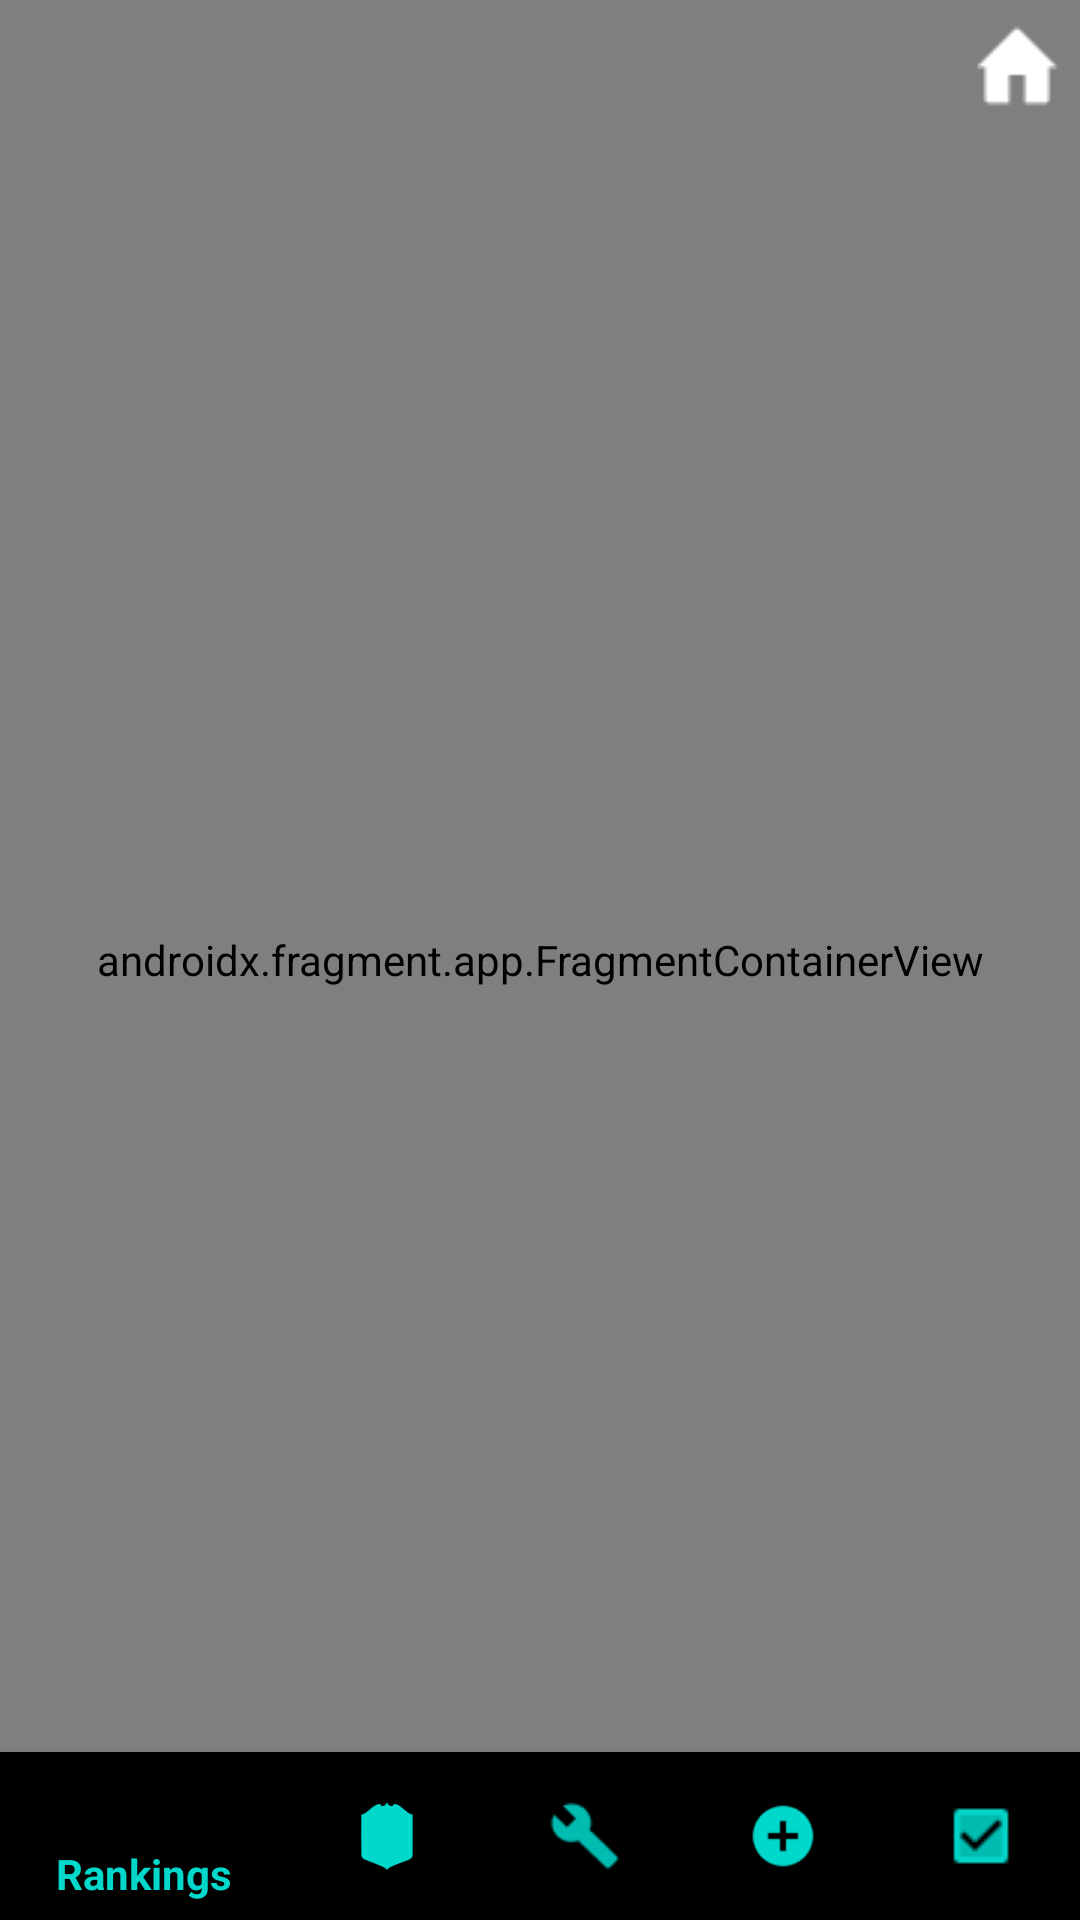

Icon bounding boxes for this 1080×1920 phone screenshot, format [x1=x1, y1=y1, x2=x2, y2=y2]:
home: [x1=978, y1=27, x2=1056, y2=105]
